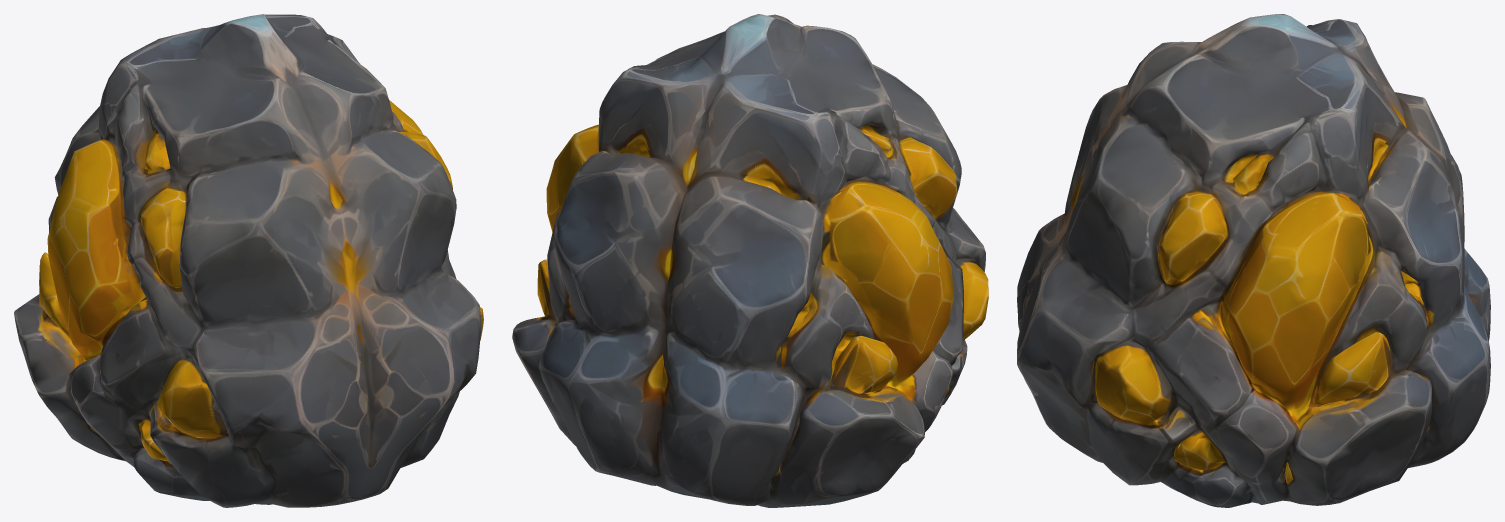
Rendered from Minerais 4.glb.
3 renders of one model, left to right at view 1: azimuth 30°, elevation 25°; view 2: azimuth 150°, elevation 25°; view 3: azimuth 270°, elevation 25°, orthographic.
Visible parts, largest first — view 1: tripo_node_1aa28f65-887b-41ca-8f0e-0f8f9a19f217; view 2: tripo_node_1aa28f65-887b-41ca-8f0e-0f8f9a19f217; view 3: tripo_node_1aa28f65-887b-41ca-8f0e-0f8f9a19f217.
Boxes of the visible parts, bbox=[...] form: tripo_node_1aa28f65-887b-41ca-8f0e-0f8f9a19f217: bbox=[14, 14, 483, 507]; tripo_node_1aa28f65-887b-41ca-8f0e-0f8f9a19f217: bbox=[512, 14, 988, 507]; tripo_node_1aa28f65-887b-41ca-8f0e-0f8f9a19f217: bbox=[1017, 14, 1490, 507].
Size of the model in its own units: 0.875 by 1 by 0.9289.
Materials: 1 (1 with a texture image).
